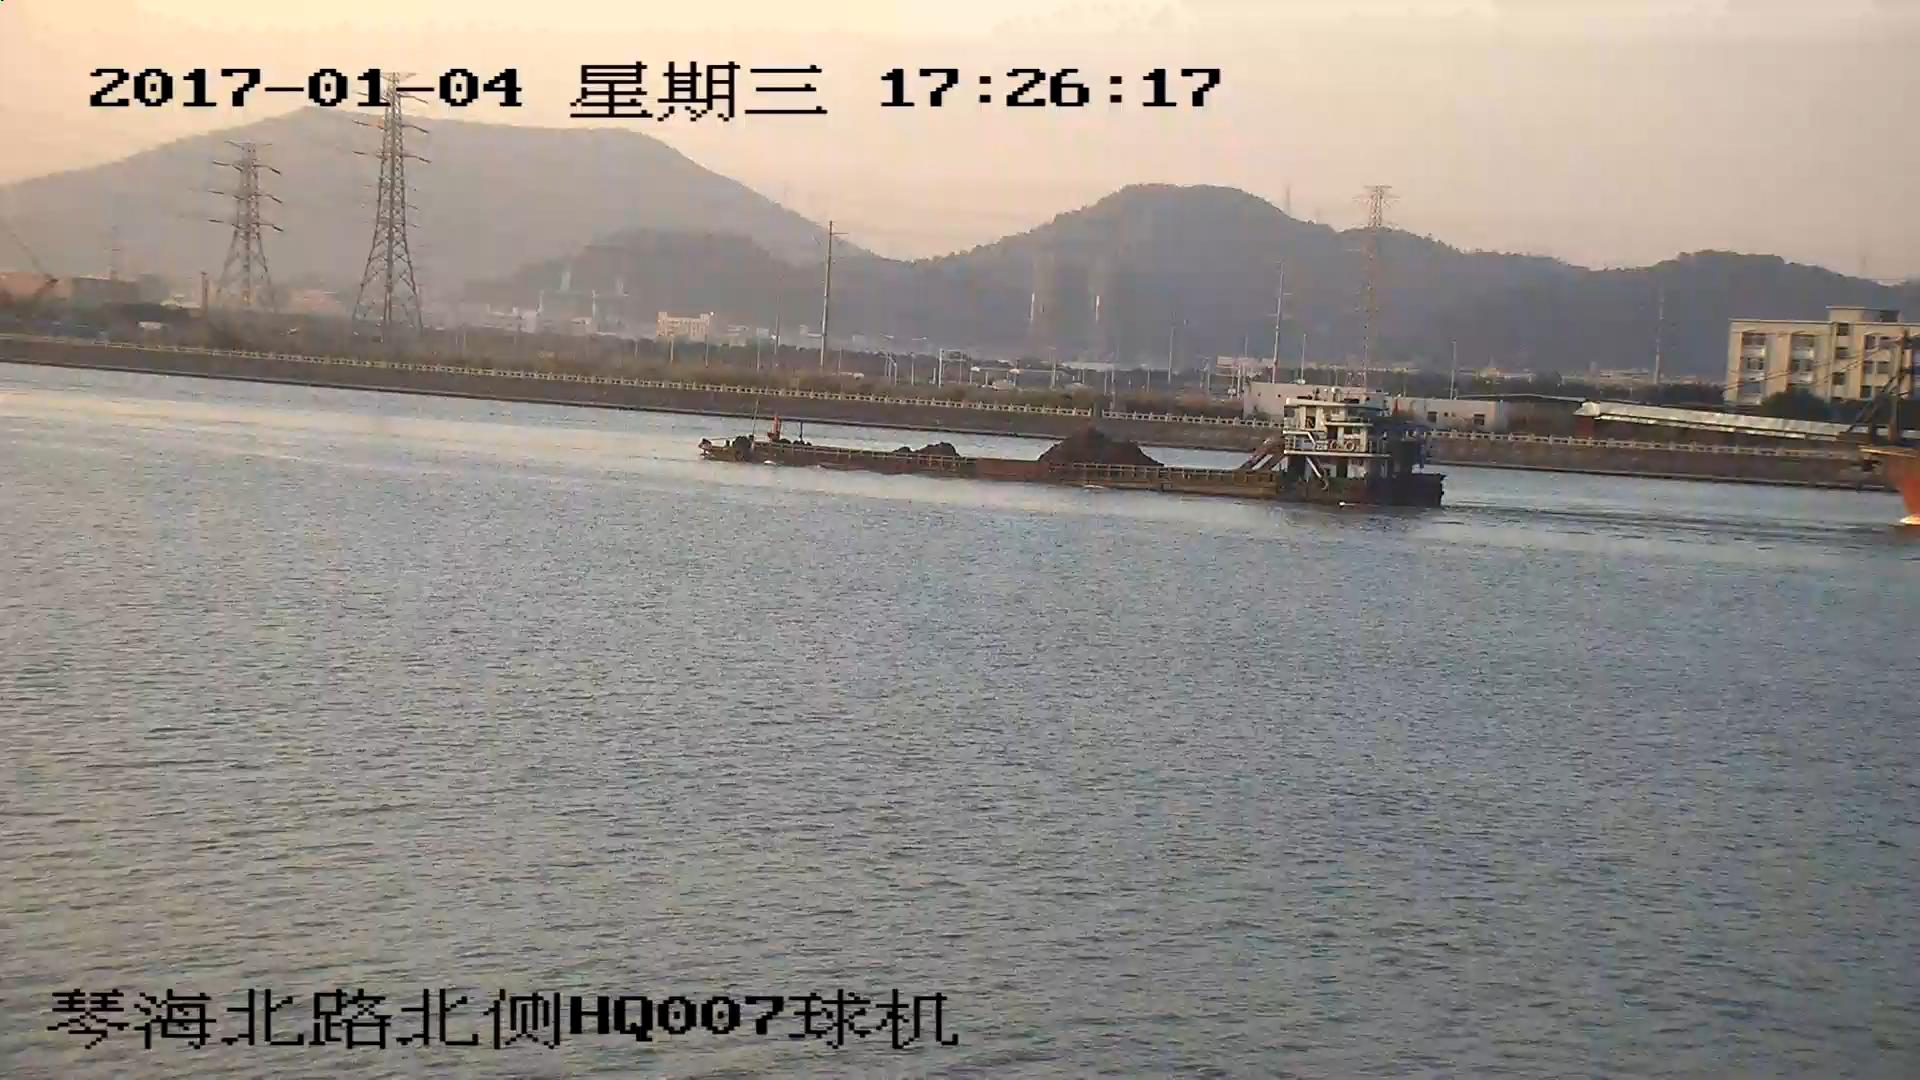ore carrier: (702, 398, 1445, 505)
